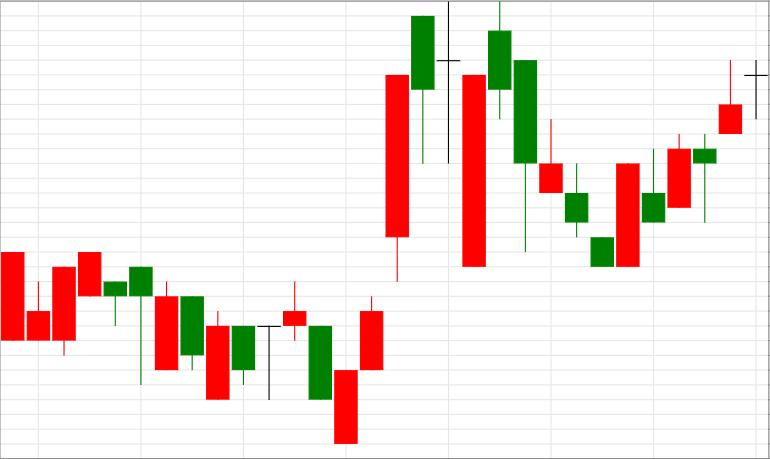bullish_engulfing_rise: (487, 2, 640, 267)
